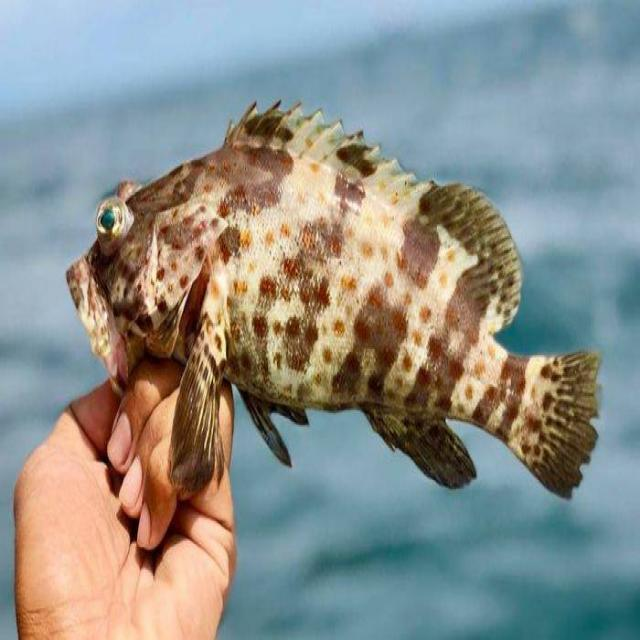grouper: (60, 81, 624, 516)
